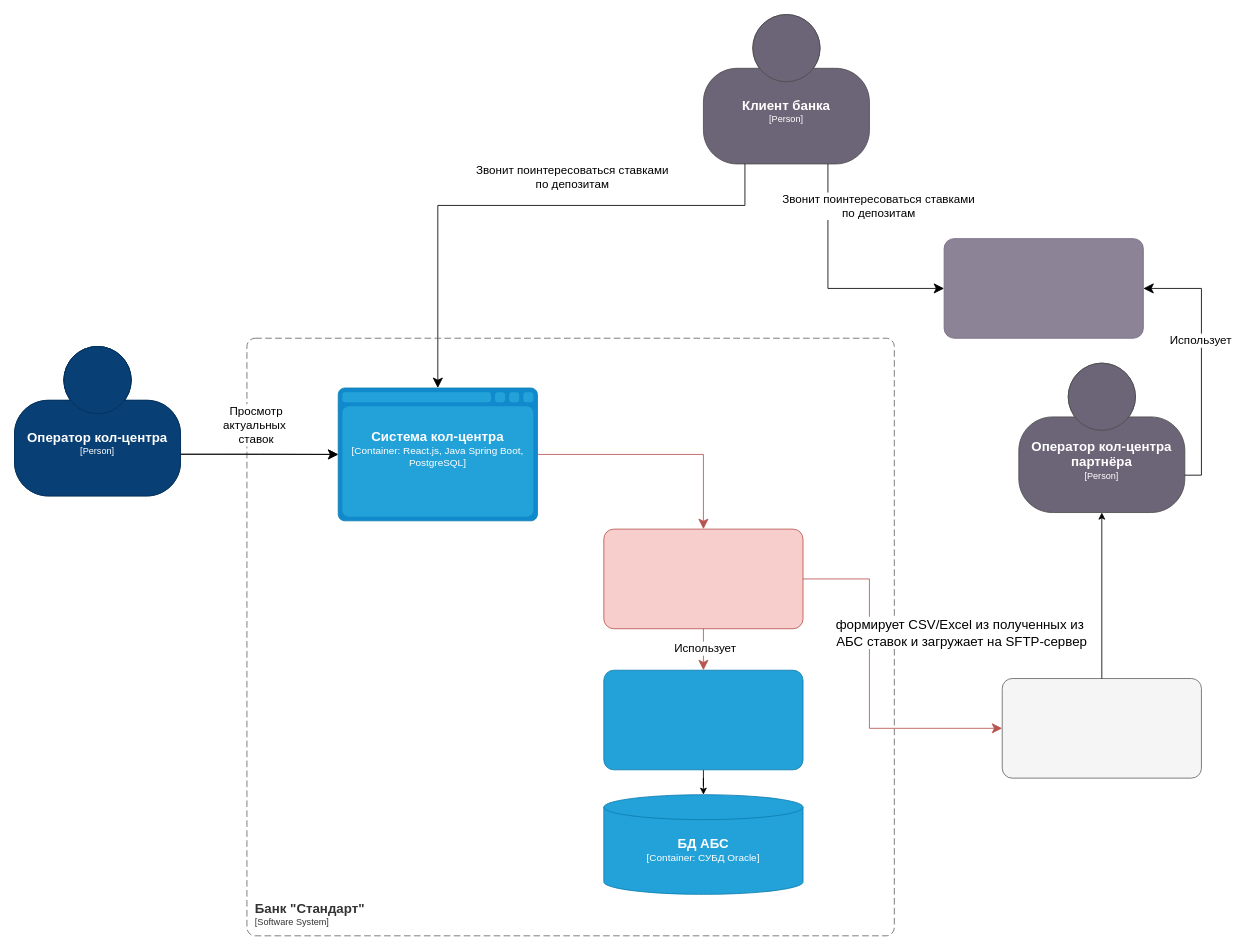
The diagram is 1245 pixels wide and 950 high, and some of its shapes have lost their labels. Each missing label, with the centre of its shape:
"SFTP server [Container: ]" goes at [1101,728].
"АБС [Container: ]" goes at [703,719].
"Патрнёрский кол-центр [Software System]" goes at [1043,288].
"Сервис депозитов [Container: .NET Framework 4.5]" goes at [703,578].
